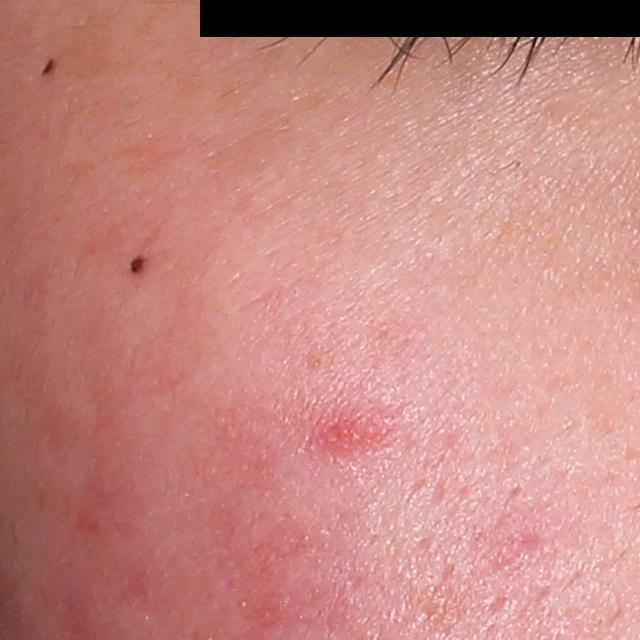nevus: (127, 254, 148, 277), (38, 60, 57, 78)
